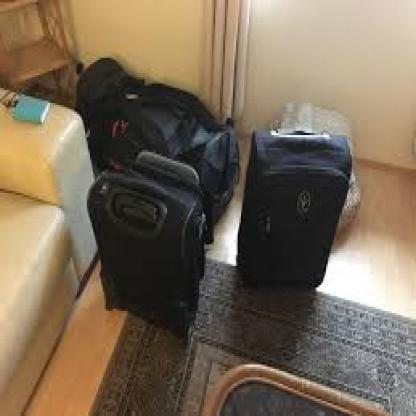maleta: (69, 47, 243, 240), (79, 154, 223, 350), (236, 113, 360, 304)
